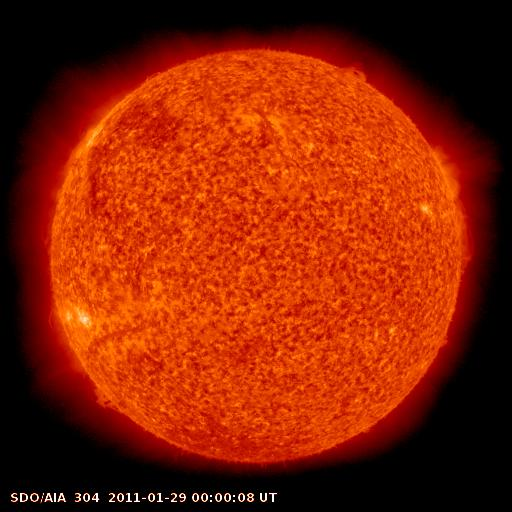prominence: (69, 84, 130, 147), (450, 198, 486, 270), (84, 373, 132, 423), (332, 49, 376, 94)
